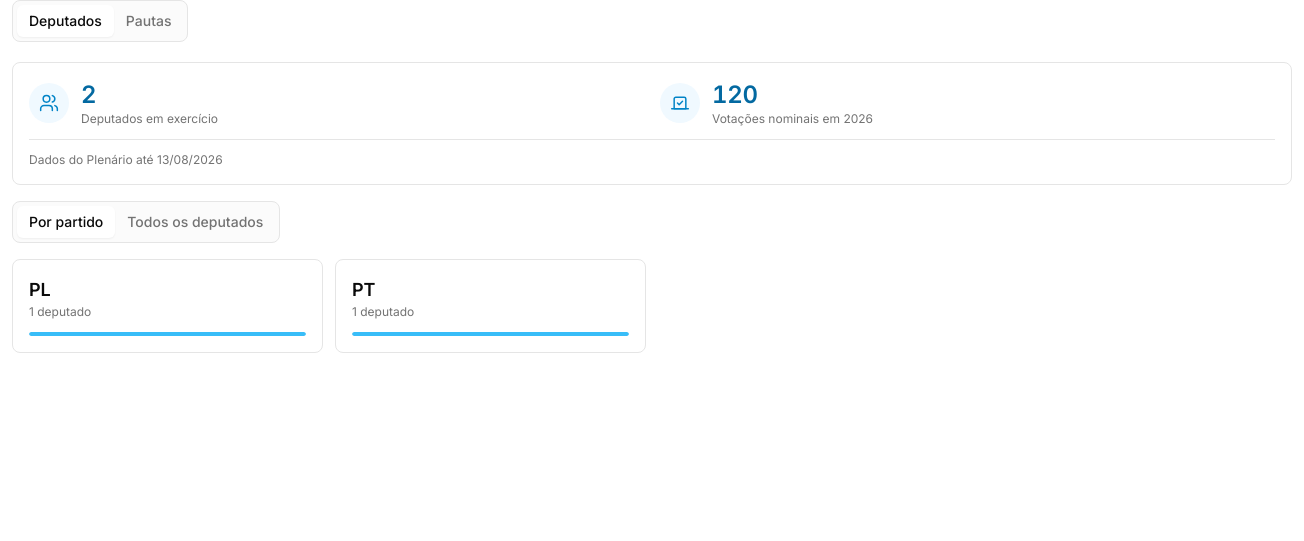
CamaraView › filtra por partido sem ordenar por critério editorial
Click the tab "Todos os deputados": click(195, 222) x1=115 y1=206 x2=275 y2=238
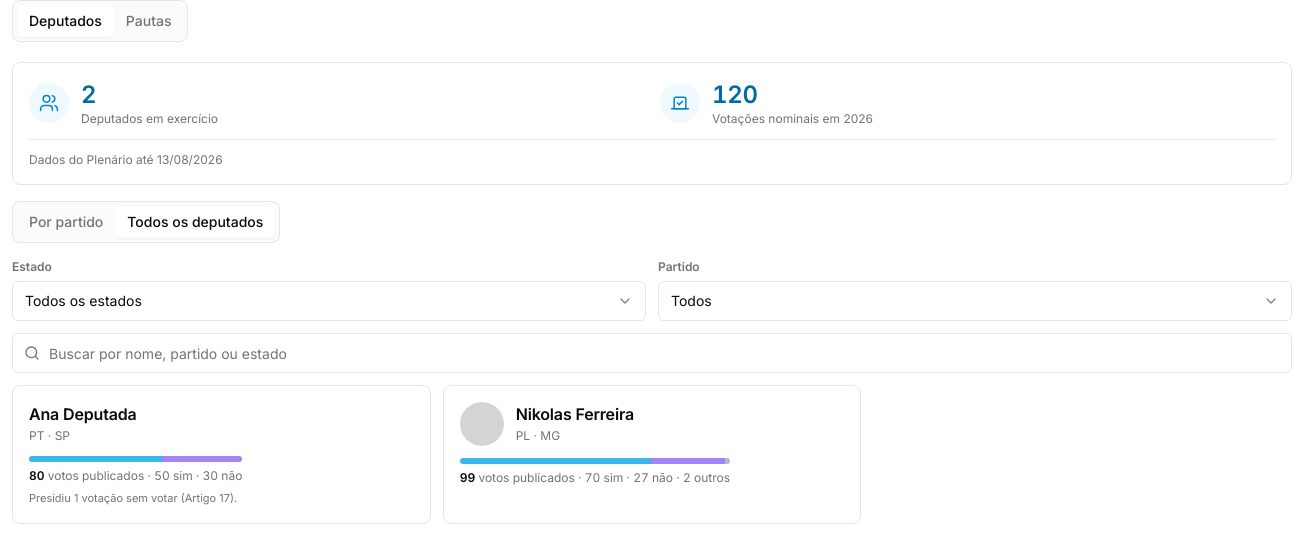
Check: the text "Nikolas Ferreira" is shown, box x1=516 y1=404 x2=634 y2=424
Click the dropdown named "Filtrar por partido": click(691, 300) x1=658 y1=281 x2=1292 y2=321
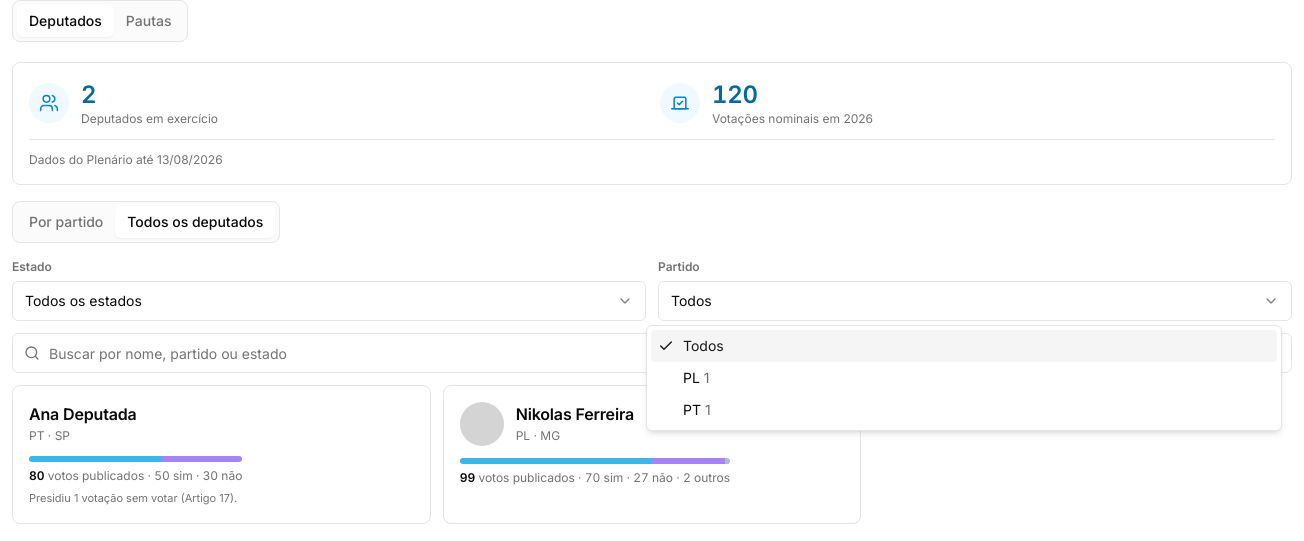
Click the option "PT 1": click(697, 410) x1=683 y1=401 x2=711 y2=418
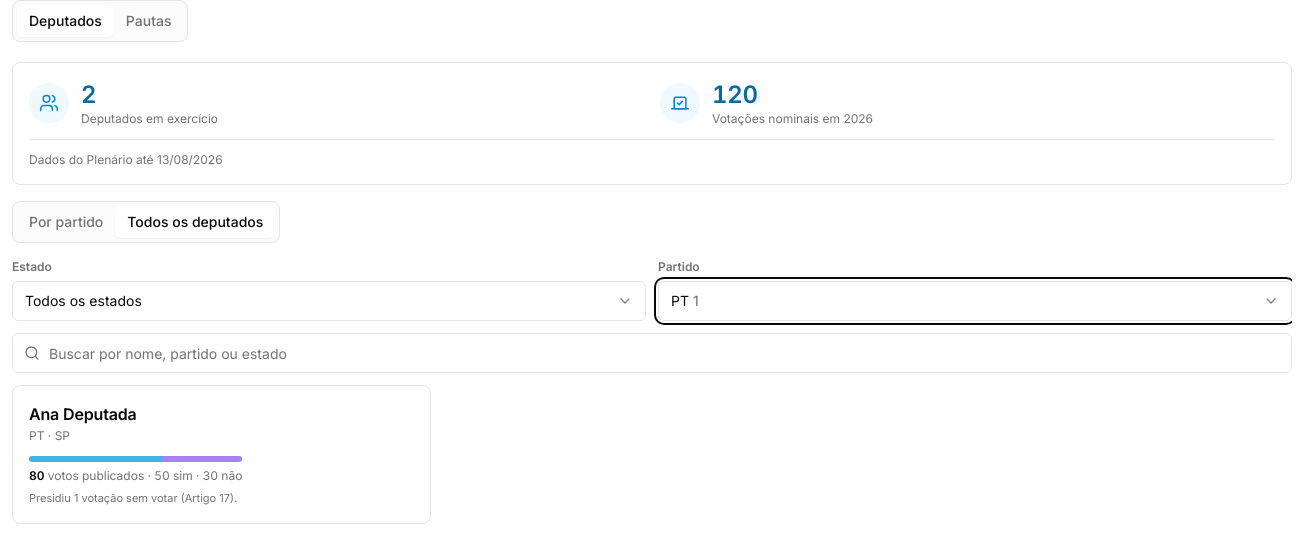
Check: the text "Ana Deputada" is shown, box x1=29 y1=404 x2=137 y2=424
Check: the button "Nikolas Ferreira" is gone
